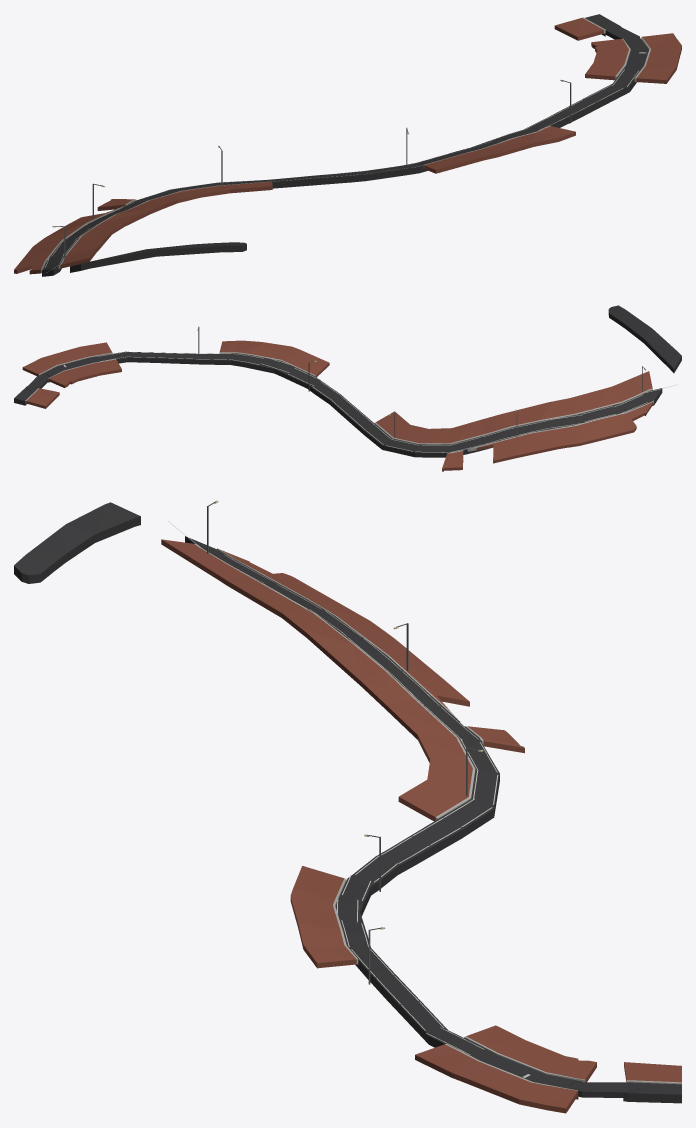
The picture shows the model from 3 angles, top to bottom: view 1: azimuth 30°, elevation 25°; view 2: azimuth 150°, elevation 25°; view 3: azimuth 270°, elevation 25°; orthographic projection. The views are drawn at different scales.
Size of the model in its own units: 151 by 20.75 by 83.33.
